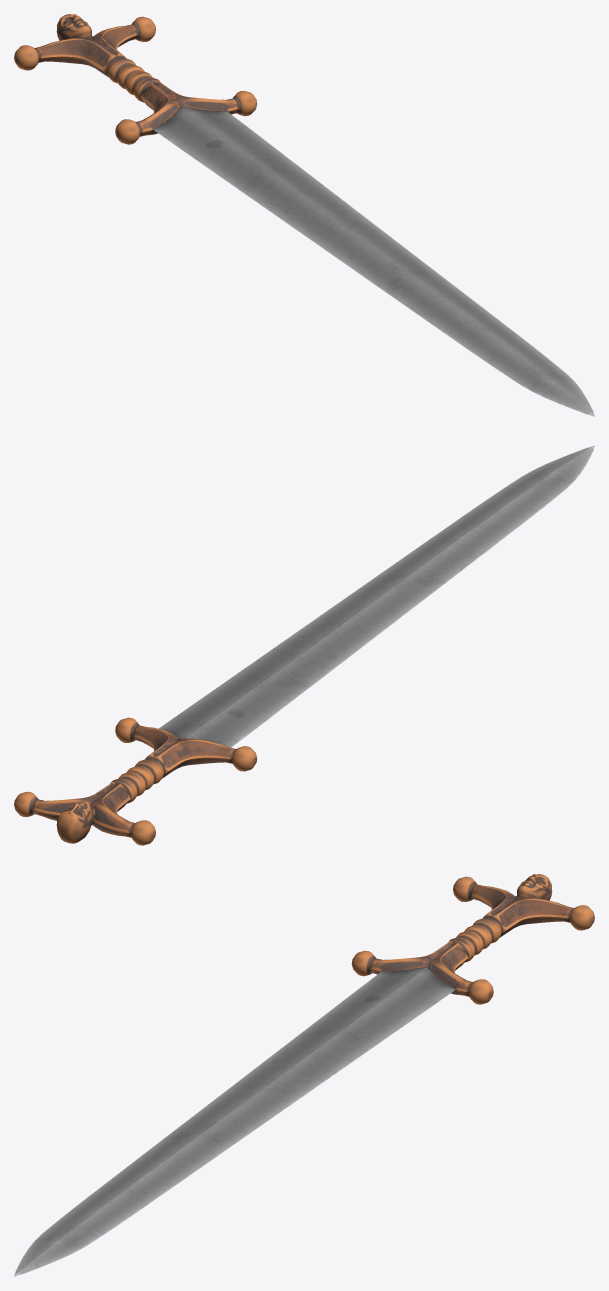
Rendered from weapon_sword.glb.
3 views of the same model, one above another, from view 1: azimuth 30°, elevation 25°; view 2: azimuth 150°, elevation 25°; view 3: azimuth 330°, elevation 25° (orthographic).
Visible parts, largest first — view 1: Object_2; view 2: Object_2; view 3: Object_2.
Boxes of the visible parts, x1,y1,x2,y2 form: Object_2: (14, 14, 594, 416); Object_2: (14, 445, 594, 845); Object_2: (14, 874, 594, 1276).
Bounding box in the file's own units: 0.1864 × 0.0465 × 1.24.
1 material, 1 textured.
